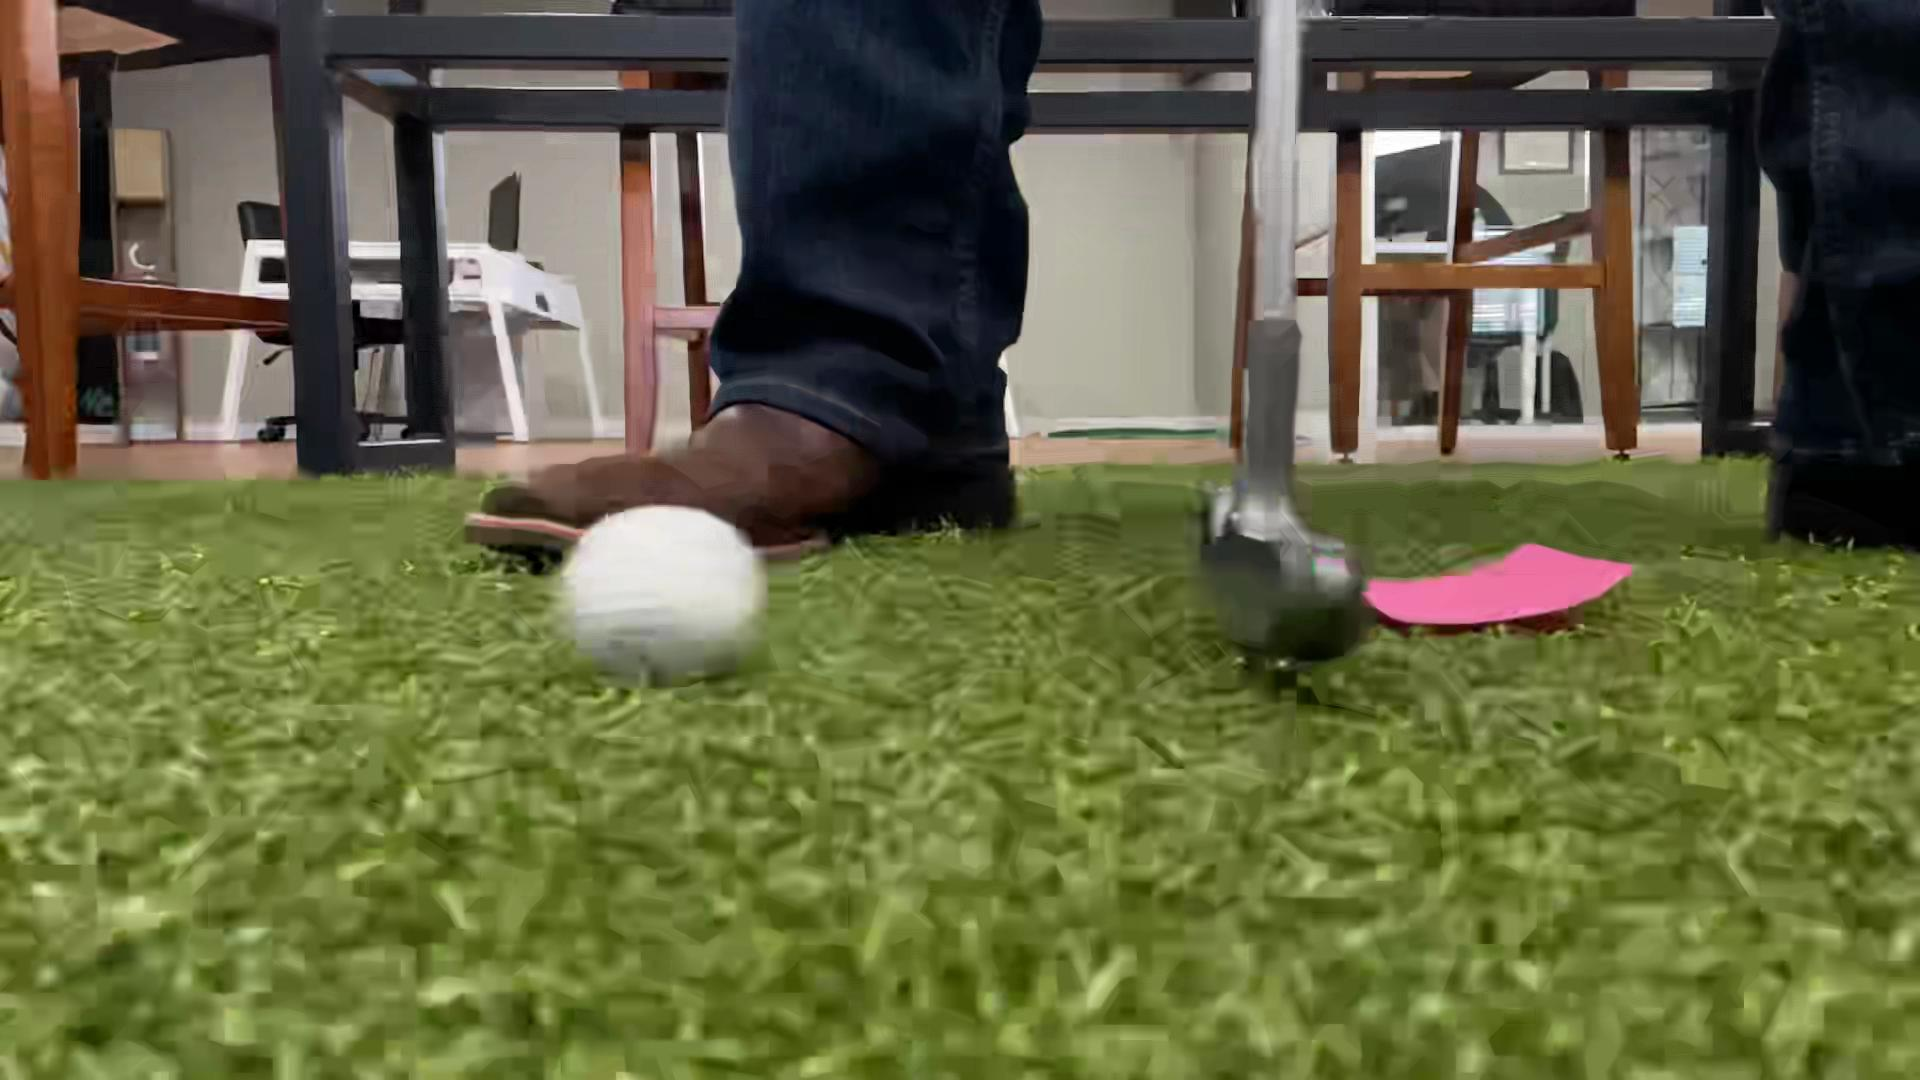golfball: (556, 507, 768, 682)
